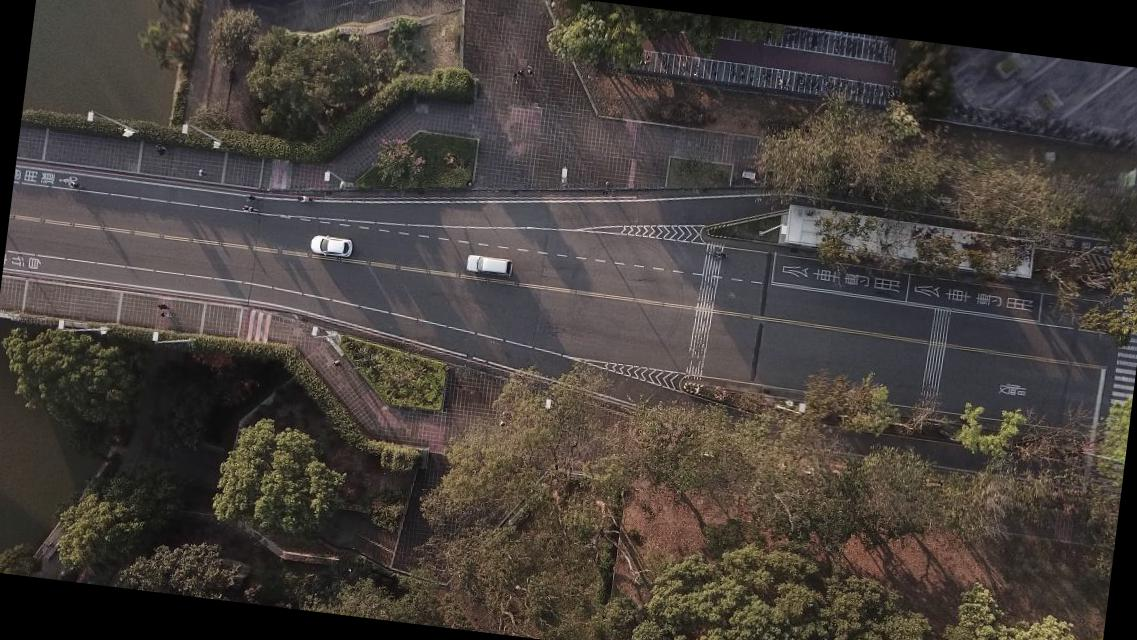vehicle: (464, 253, 514, 278), (308, 232, 354, 259)
